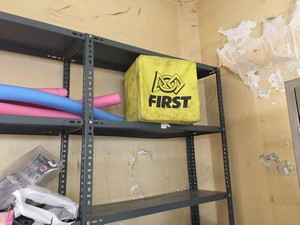cube: (123, 55, 200, 124)
